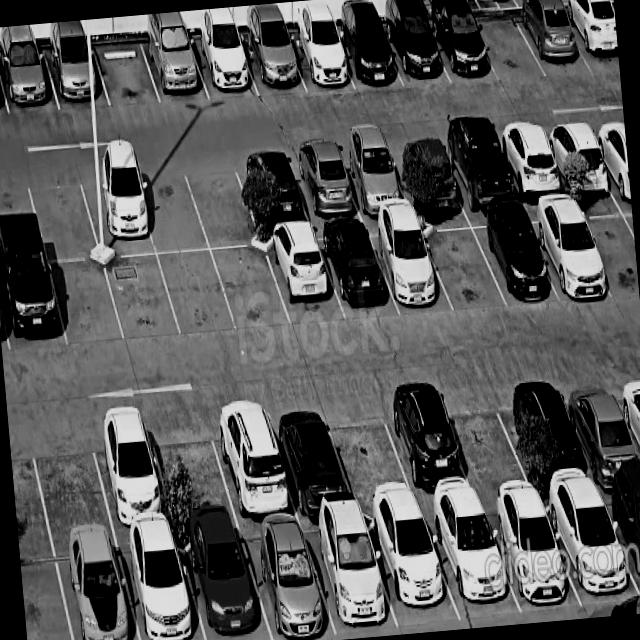car: (300, 513, 400, 640), (540, 488, 640, 613), (378, 385, 479, 507), (236, 520, 337, 640), (481, 497, 582, 613), (422, 502, 521, 620), (362, 509, 461, 626), (206, 398, 298, 521), (175, 524, 271, 640), (264, 398, 356, 515), (508, 374, 598, 493), (85, 411, 174, 531), (115, 529, 205, 640), (558, 371, 640, 487), (52, 534, 139, 640), (522, 200, 613, 298), (467, 210, 557, 305), (262, 228, 345, 328), (314, 223, 399, 319), (365, 220, 453, 312), (77, 166, 156, 257), (0, 258, 67, 353), (438, 131, 519, 209), (233, 151, 311, 229), (286, 146, 362, 222), (334, 142, 411, 216), (387, 137, 465, 208), (493, 125, 568, 198), (512, 8, 592, 76), (541, 120, 615, 192), (380, 15, 451, 87), (426, 13, 499, 83), (598, 481, 640, 597), (331, 22, 403, 89), (188, 36, 259, 100), (141, 37, 209, 103), (43, 44, 110, 110), (284, 29, 354, 91), (559, 3, 619, 72), (240, 33, 306, 95), (0, 48, 59, 114)
free: (440, 379, 535, 500), (322, 393, 418, 508), (145, 409, 238, 527), (26, 415, 112, 538), (417, 216, 506, 311), (182, 155, 261, 250), (133, 162, 209, 254), (25, 169, 100, 261), (158, 251, 237, 337), (104, 254, 181, 342), (212, 247, 291, 331), (574, 196, 639, 298), (49, 260, 124, 347), (469, 10, 546, 83), (92, 40, 161, 106)
